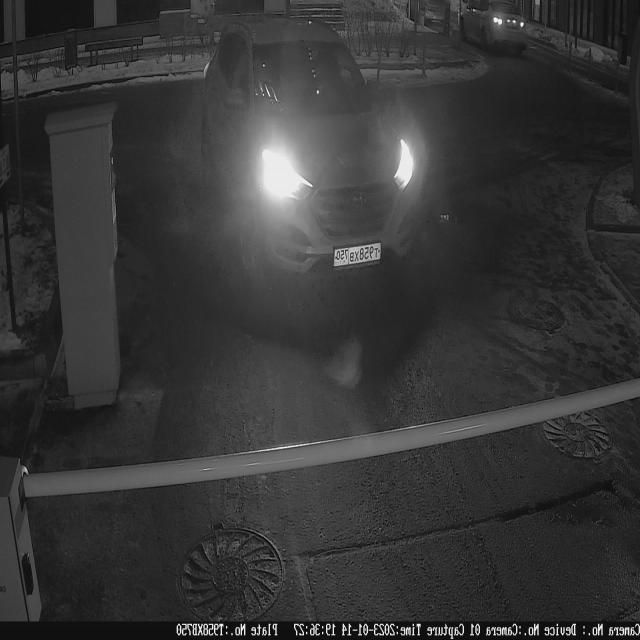car-plate-numbers: (332, 239, 383, 275)
